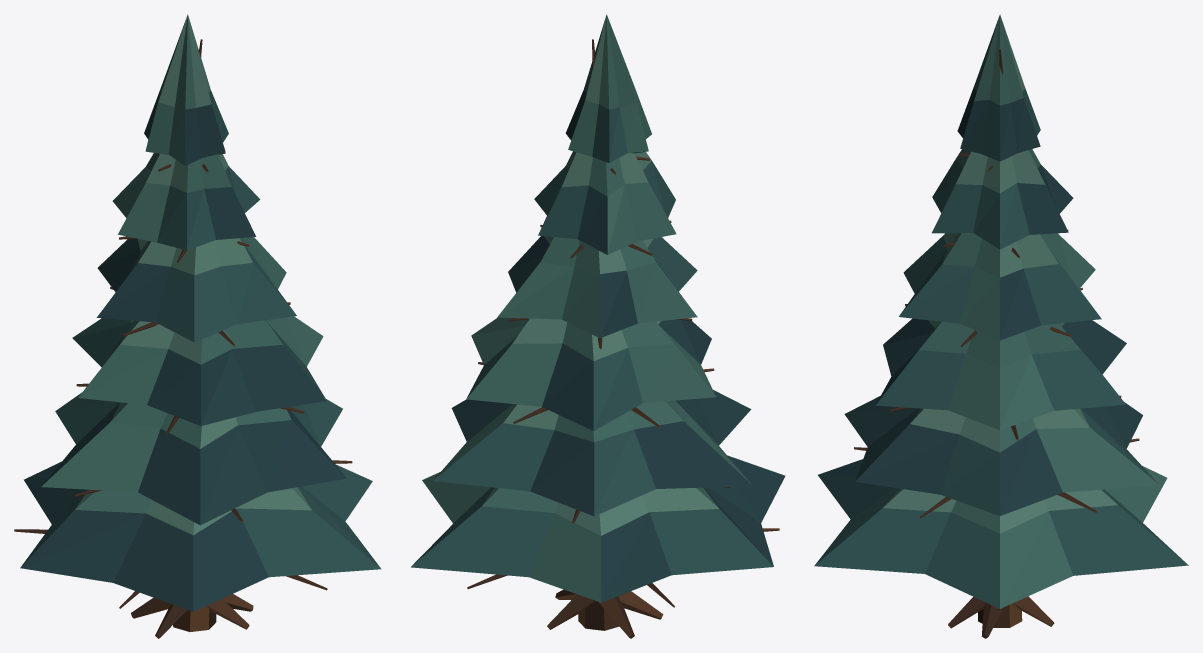
File: tree_spruce_blue.obj
The picture shows the model from 3 angles, left to right: view 1: azimuth 30°, elevation 25°; view 2: azimuth 150°, elevation 25°; view 3: azimuth 270°, elevation 25°; orthographic projection.
Visible parts, largest first — view 1: tree_spruce_blue; view 2: tree_spruce_blue; view 3: tree_spruce_blue.
Part boxes in pixels (left/top/right/bottom): tree_spruce_blue: left=14, top=14, right=381, bottom=638; tree_spruce_blue: left=411, top=14, right=785, bottom=638; tree_spruce_blue: left=814, top=14, right=1188, bottom=638.
Bounding box in the file's own units: 369 × 610 × 344.
Materials: 1 (1 with a texture image).
